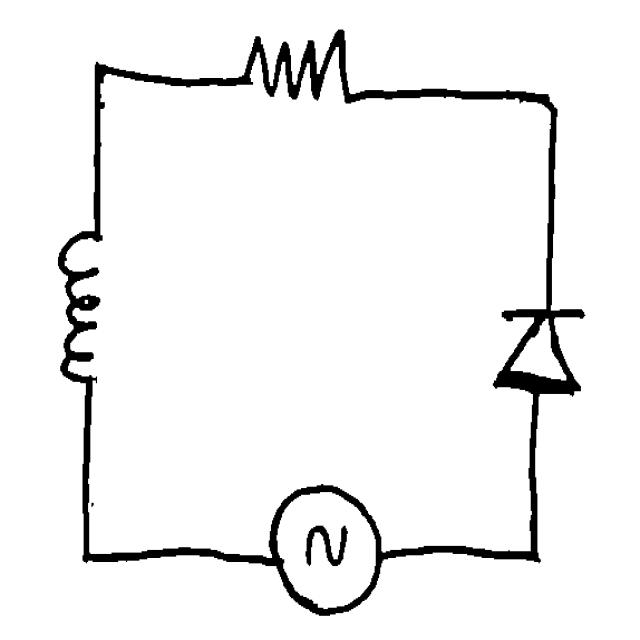ac: (256, 473, 386, 618), (488, 293, 594, 407)
inductor: (46, 212, 119, 404)
resistor: (228, 16, 368, 118)
